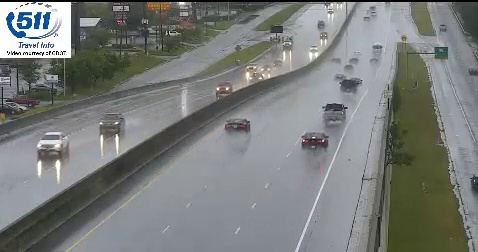car: (301, 132, 327, 150), (323, 103, 346, 122), (224, 118, 250, 134), (340, 79, 357, 93)
